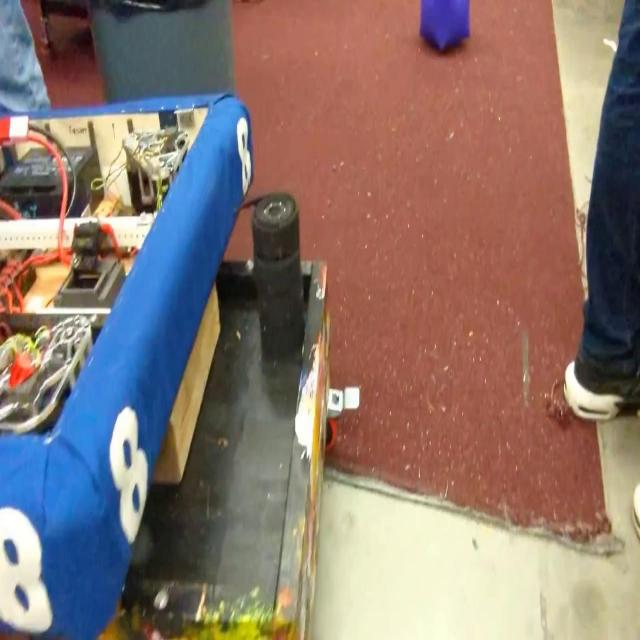frc_cube: (420, 0, 473, 55)
